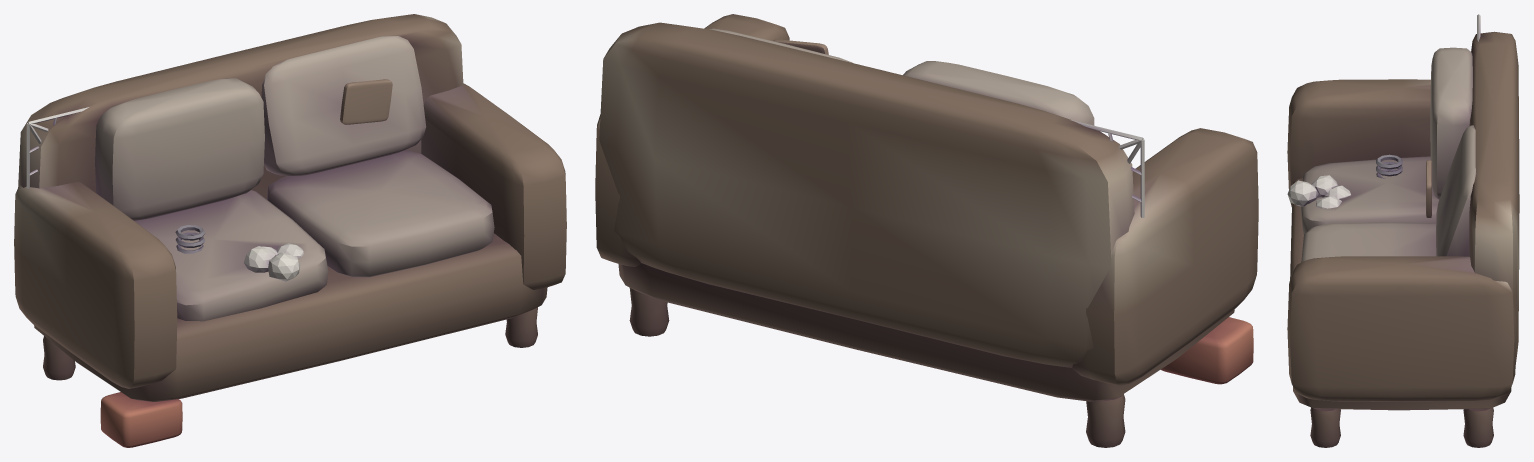
The model's file is sofa_broken.glb.
3 views of the same model, side by side, from view 1: azimuth 30°, elevation 25°; view 2: azimuth 150°, elevation 25°; view 3: azimuth 270°, elevation 25° (orthographic). The views are drawn at different scales.
Visible parts, largest first — view 1: sofa_broken; view 2: sofa_broken; view 3: sofa_broken.
Boxes of the visible parts, bbox=[...] form: sofa_broken: bbox=[14, 14, 566, 447]; sofa_broken: bbox=[595, 14, 1258, 447]; sofa_broken: bbox=[1287, 14, 1519, 447].
Bounding box in the file's own units: 1.88 × 1.06 × 0.91.
